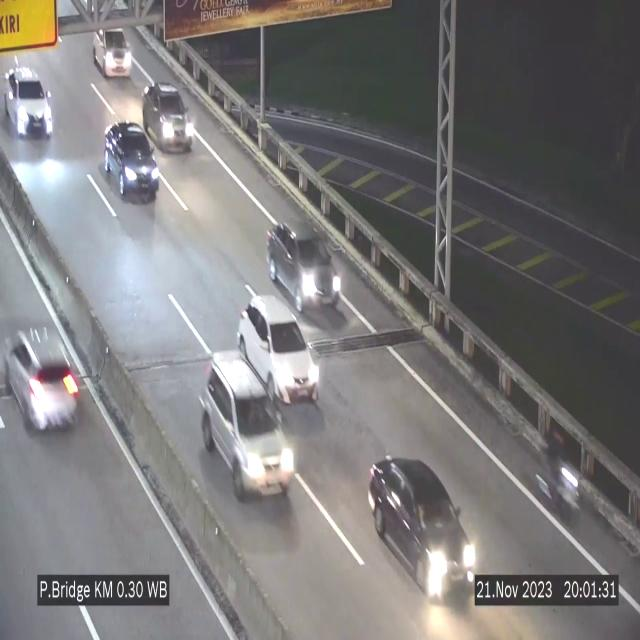Car: (373, 449, 475, 603), (200, 354, 294, 498), (0, 317, 86, 441), (237, 296, 320, 403), (266, 218, 344, 314), (104, 122, 160, 200), (141, 81, 194, 151), (5, 64, 53, 134), (91, 18, 136, 82)
Motorcycle: (540, 418, 582, 516)
